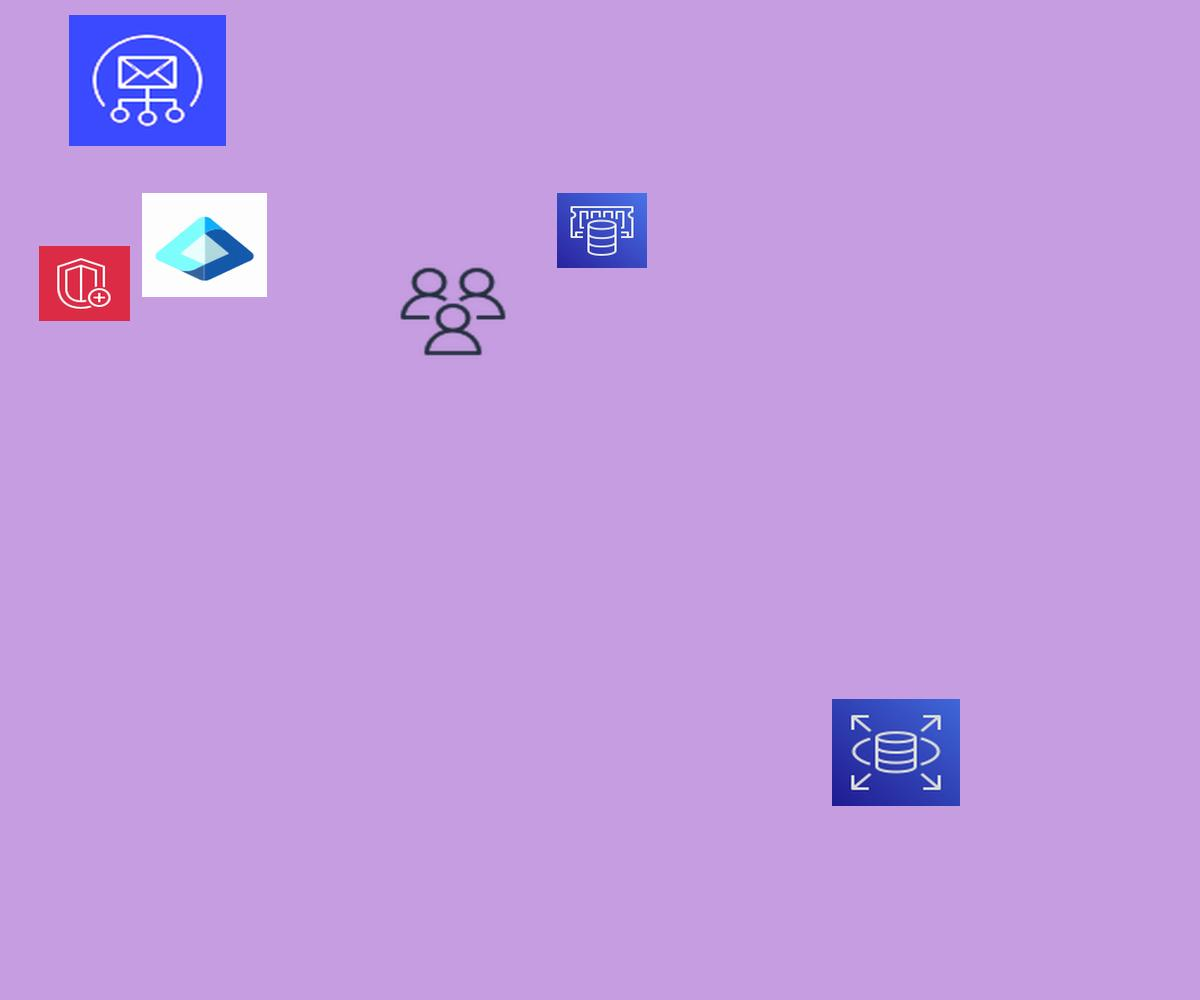AWS-ElastiCache: (557, 193, 647, 268)
AWS-RDS: (832, 699, 960, 806)
AWS-Res_Users: (396, 264, 510, 359)
AWS-Shield: (39, 246, 130, 321)
AWS-Simple-Email-Service: (69, 15, 226, 146)
Azure_microsoft_entra: (142, 193, 267, 297)
